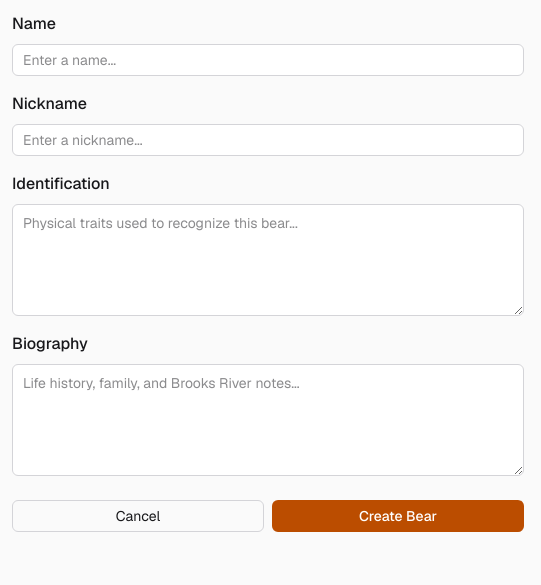
Scenario: admin forms › should show BearForm create API errors
Step 1. Type "Otis" into the field labelled "Name" → (268, 60), box [12,44,524,76]
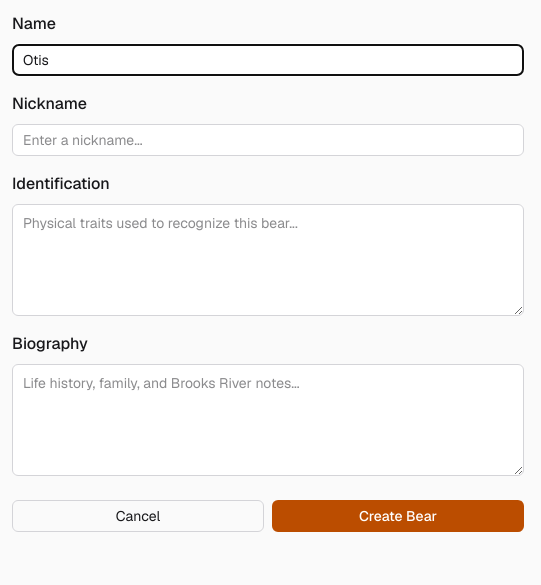
Step 2. Click the button "Create Bear" → click(398, 516), box [272,500,524,532]
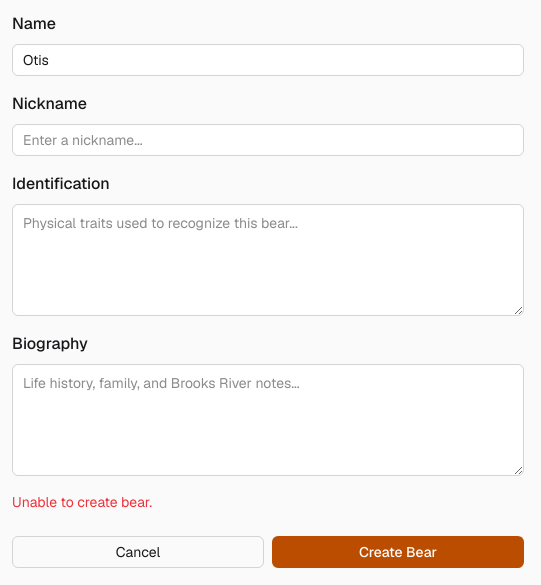
expect the message reads "Unable to create bear.": met, box [12,493,152,511]
